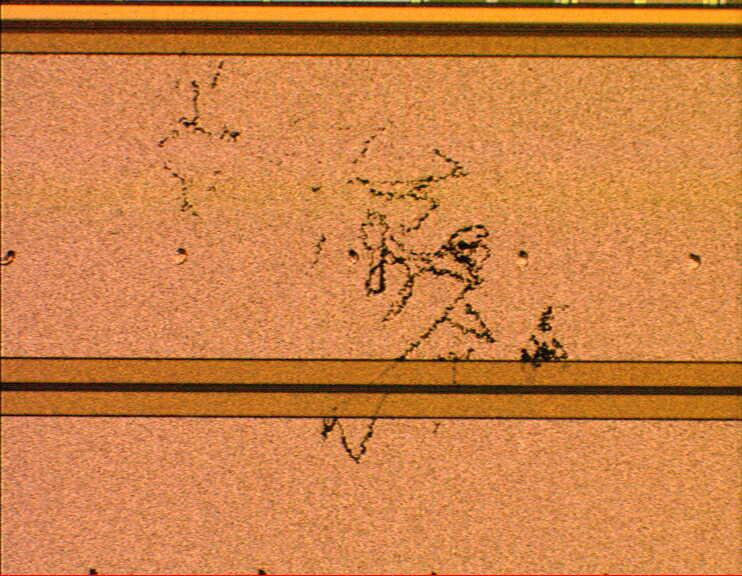SCRATCH: (155, 53, 573, 478)
